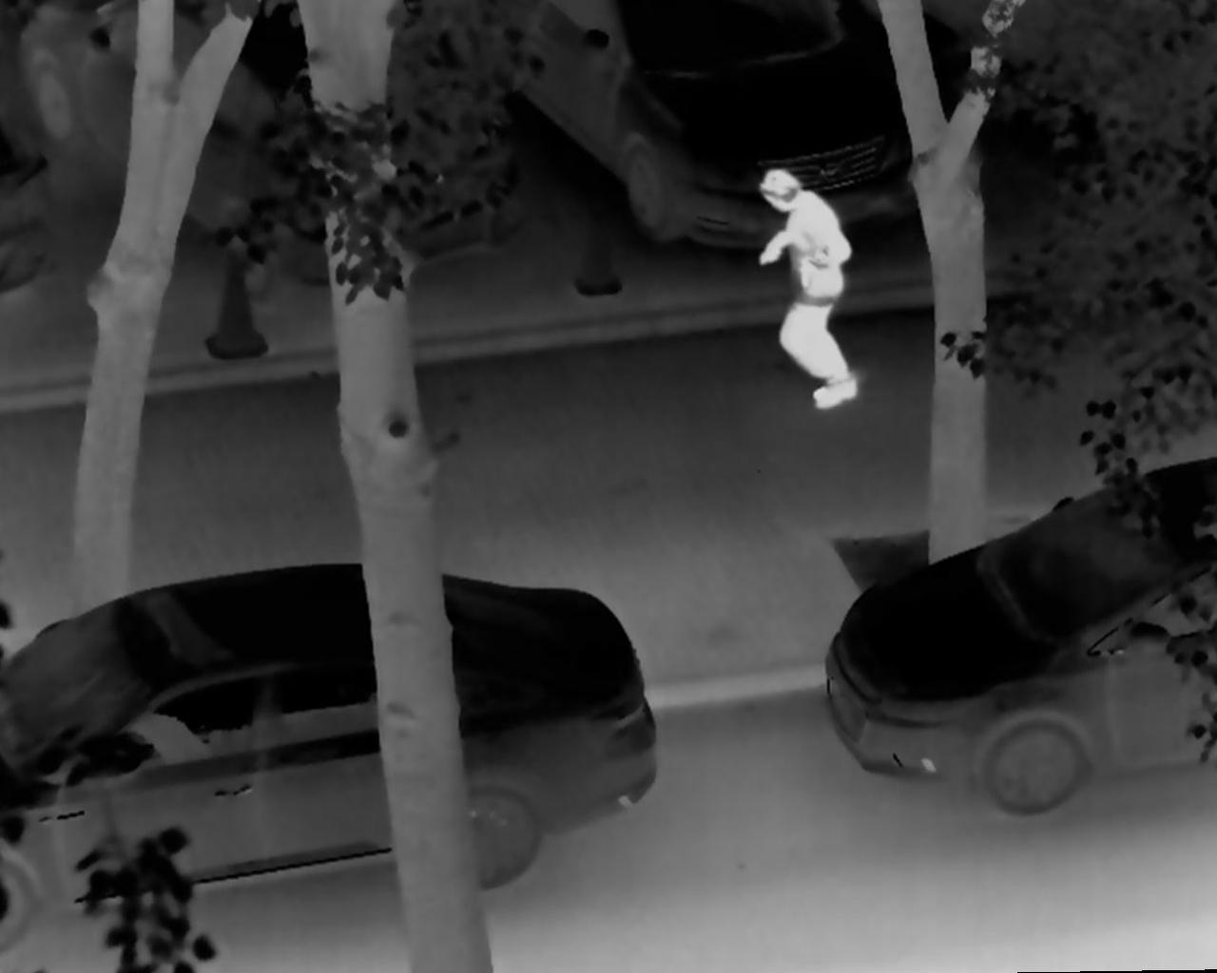person: (741, 158, 861, 410)
